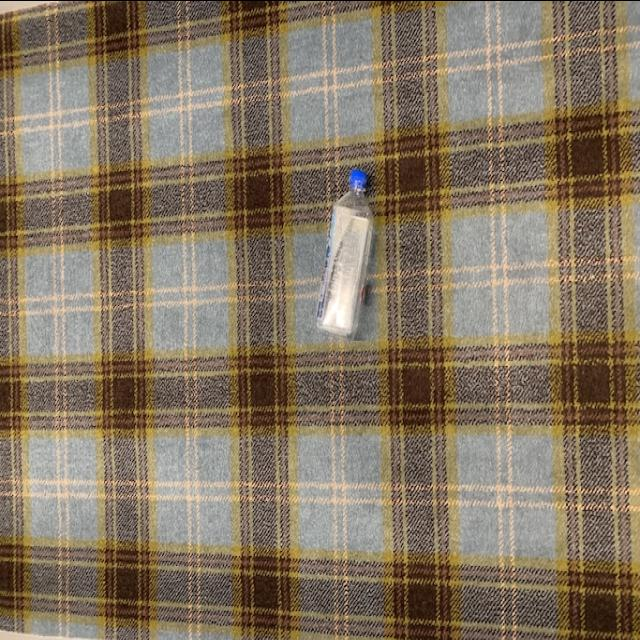PET: (318, 164, 376, 342)
